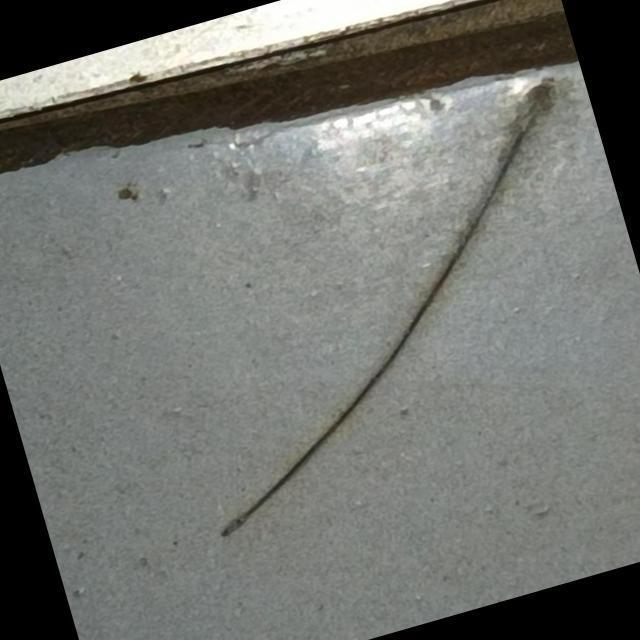defect: (210, 78, 562, 546)
